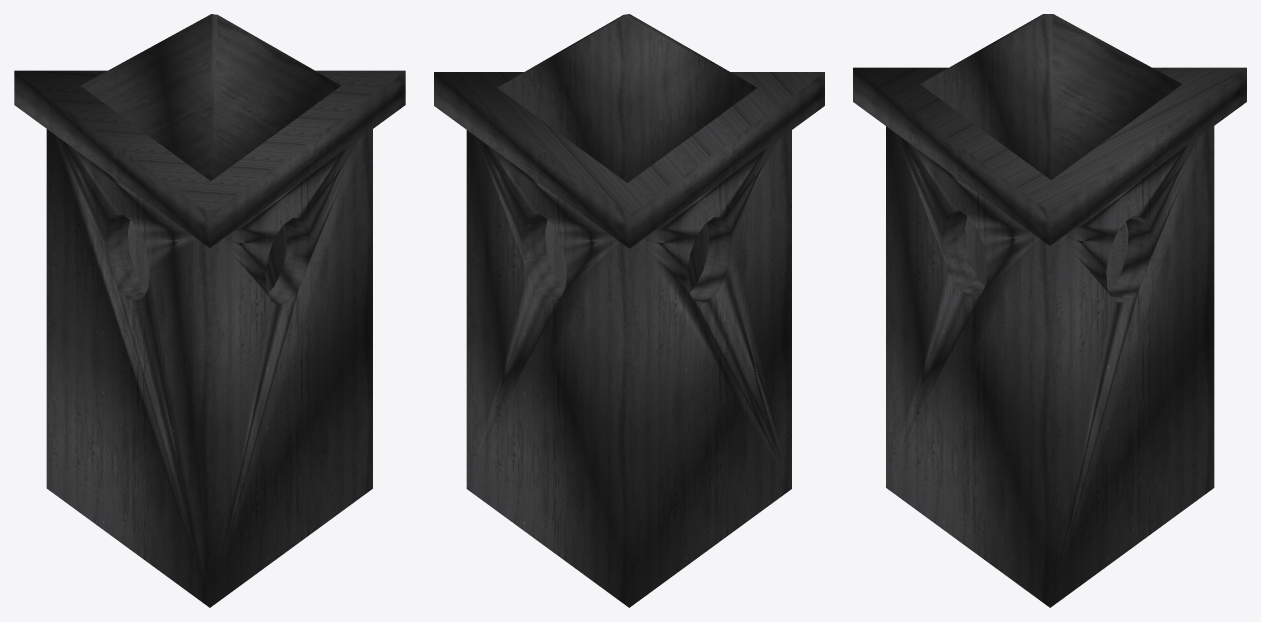
Rendered from Basura.obj.
3 renders of one model, left to right at view 1: azimuth 30°, elevation 25°; view 2: azimuth 150°, elevation 25°; view 3: azimuth 270°, elevation 25°, orthographic.
Parts seen in each view (by area): view 1: Cylinder001; view 2: Cylinder001; view 3: Cylinder001.
Boxes of the visible parts, <box> form: Cylinder001: <box>14,14,405,607</box>; Cylinder001: <box>434,14,824,607</box>; Cylinder001: <box>853,14,1246,607</box>.
Size of the model in its own units: 45 by 75.03 by 51.96.
